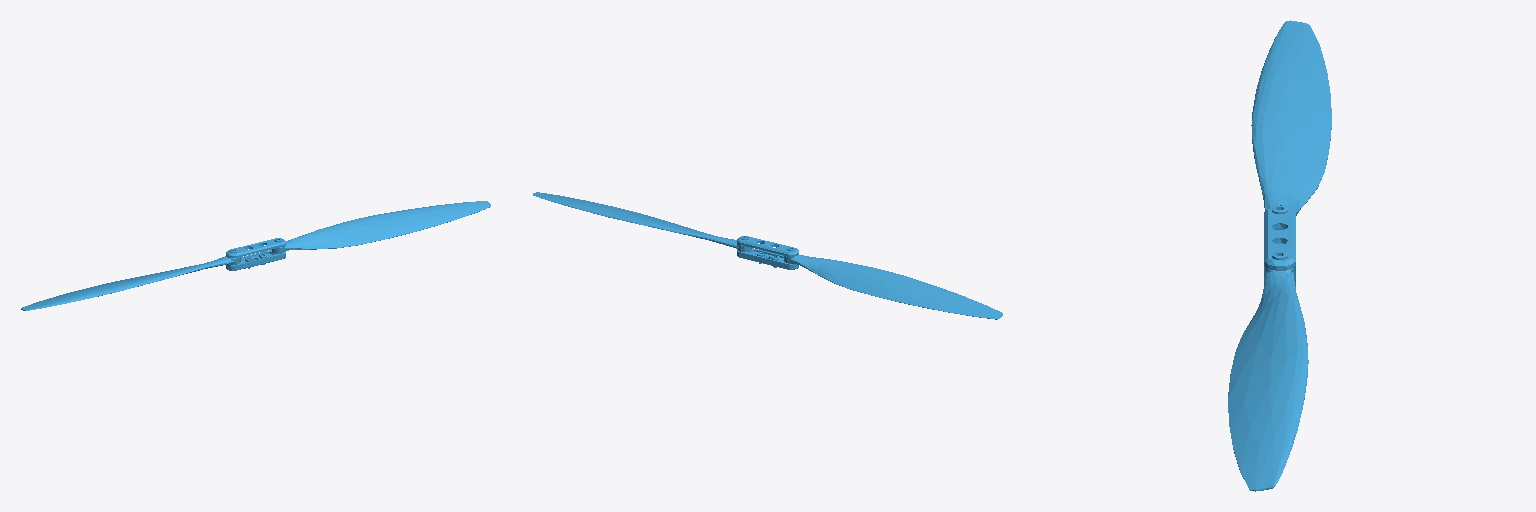
URDF robot description (rotor):
<?xml version="1.0" ?>
<robot name="rotor">


  <joint name="p600__rotor_0_joint" type="continuous">
    <parent link="world"/>
    <child link="p600__rotor_0"/>
     <origin xyz="0 0 0" rpy="0 0 0"/>
    <axis xyz="0 0 1"/>
  </joint>
  

  <link name="world"/>
  <link name="p600__rotor_0">
    <inertial>
      <mass value="0.005"/>
      <origin xyz="0 0 0" rpy="0 0 0"/>
      <inertia ixx="9.75e-07" ixy="0" ixz="0" iyy="0.000273104" iyz="0" izz="0.000274004"/>
    </inertial>
    <collision name="p600__rotor_0_collision">
      <origin xyz="0 0 0" rpy="0 0 0"/>
      <geometry>
        <cylinder radius="0.128" length="0.005"/>
      </geometry>
    </collision>
    <visual name="p600__rotor_0_visual">
      <origin xyz="0 0 0" rpy="0 0 0"/>
      <geometry>
        <mesh filename="meshes/p600_ccw_lq.stl" scale="1 1 1"/>
      </geometry>
    </visual>
  </link>

</robot>

--- Facts derived from the render (not from the file) ---
The picture shows the robot from 3 angles, left to right: view 1: azimuth 30°, elevation 25°; view 2: azimuth 150°, elevation 25°; view 3: azimuth 270°, elevation 25°; orthographic projection.
Robot: rotor — 2 links, 1 joints (1 continuous); root link world; default pose: every joint at zero.
Links seen in each view (by area): view 1: p600__rotor_0; view 2: p600__rotor_0; view 3: p600__rotor_0.
Link boxes in pixels (x1,y1,x2,y2): p600__rotor_0: [21, 201, 490, 310]; p600__rotor_0: [533, 192, 1002, 319]; p600__rotor_0: [1228, 20, 1331, 491].
Bounding box of the posed robot: 0.388 × 0.0365 × 0.0173 m (x, y, z).
Meshes: 1 distinct files referenced, 1 mesh visuals loaded (1 binary STL).